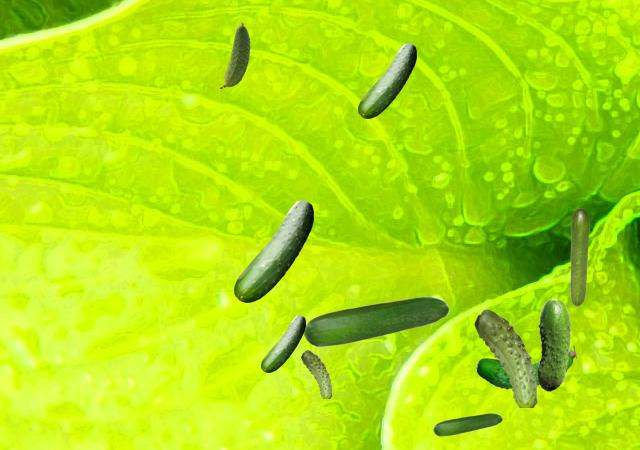cucumber: (234, 200, 312, 301), (303, 296, 448, 346), (474, 309, 537, 406), (475, 345, 575, 389), (358, 43, 415, 117), (537, 298, 570, 390), (261, 315, 304, 371), (220, 22, 249, 87), (570, 208, 588, 305), (433, 413, 501, 435), (301, 350, 331, 397)
